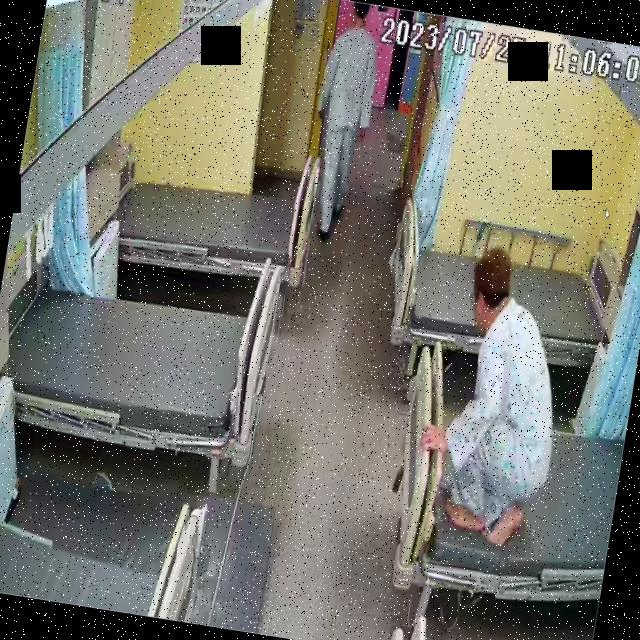bed: (380, 340, 636, 616), (0, 270, 278, 462), (379, 224, 629, 378), (113, 160, 314, 286)
danger: (409, 238, 582, 561)
patient: (408, 241, 582, 566), (292, 0, 389, 273)
stand: (289, 0, 388, 278)
